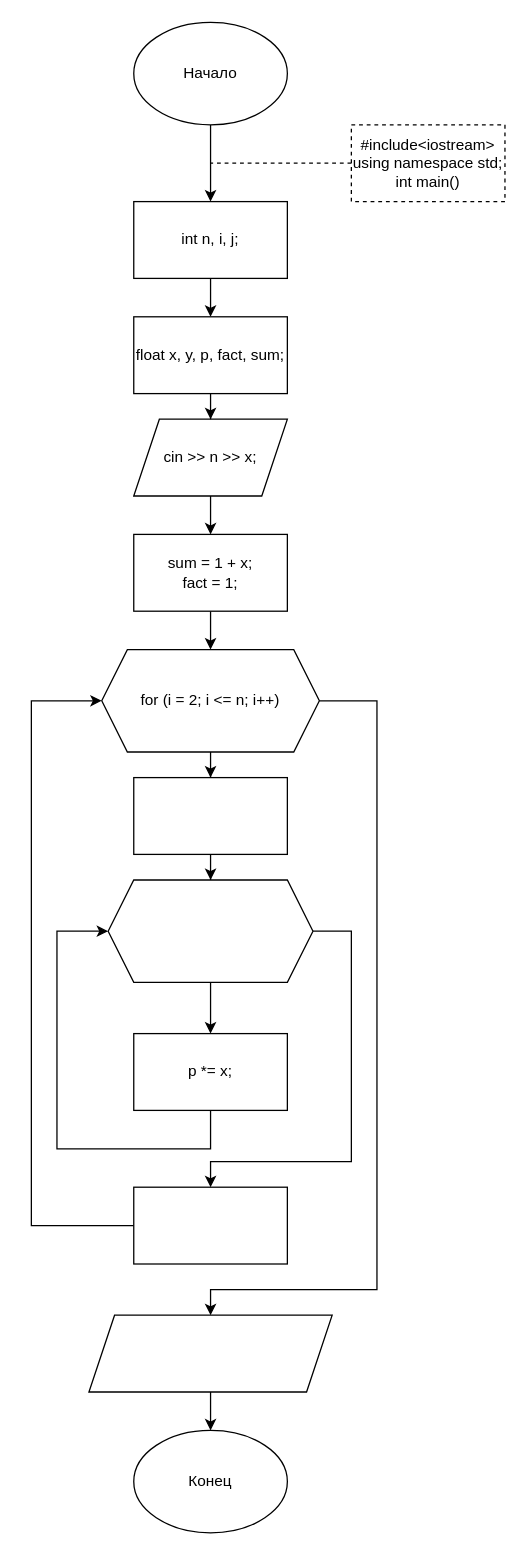
Image size: 527x1555. Some labels were removed from this diagram. The shapes that lost their labels are listed below. From the top down, each one's centre as x and y in pixels, then its label:
At point (209, 815): "p = 1;".
At point (210, 930): "for (j = 1; j <= i; j++)".
At point (209, 1225): "fact *= i; sum += p / fact;".
At point (210, 1353): "cout << sum << endl;".
